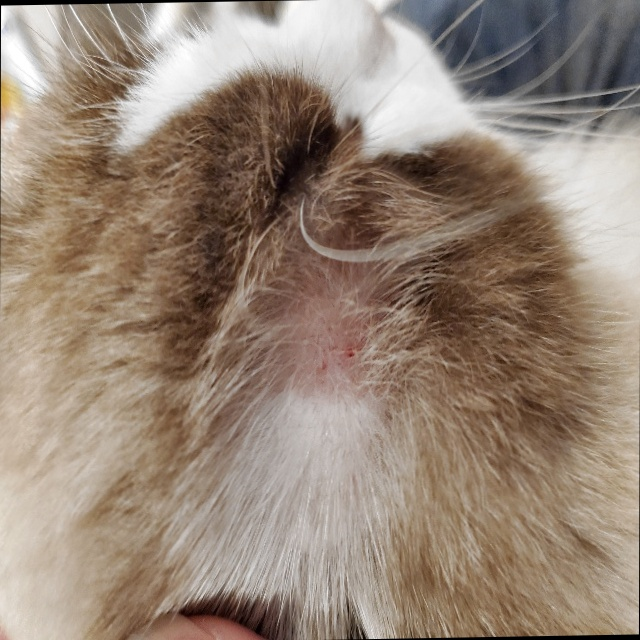ringworm: (241, 286, 379, 400)
